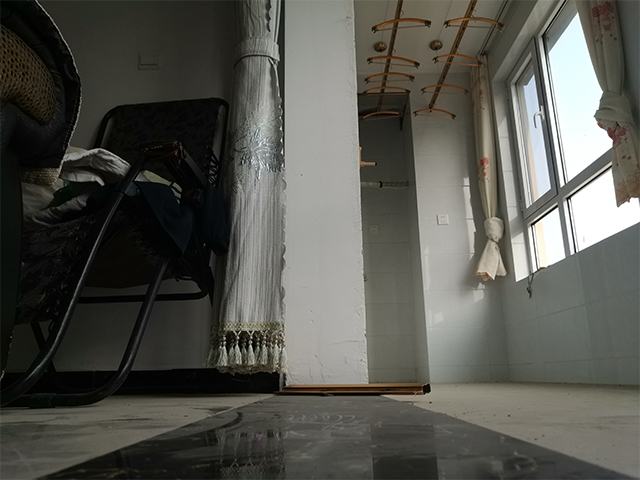curtain: (203, 1, 289, 377)
stool: (1, 96, 230, 410)
